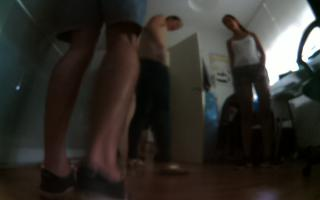person: (29, 1, 139, 200), (124, 9, 197, 181), (220, 11, 284, 180)
